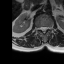CCS_normal: (42, 24, 45, 35)
LFS_normal: (48, 23, 50, 31)
LLS_normal: (45, 24, 48, 32)
RFS_normal: (37, 24, 39, 31)
RLS_normal: (39, 24, 42, 32)
